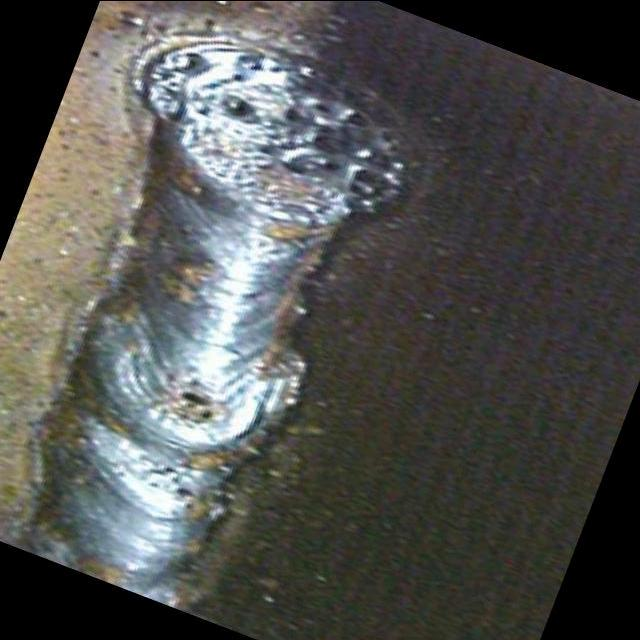defect: (220, 79, 399, 207), (146, 454, 211, 506), (171, 380, 223, 424)
